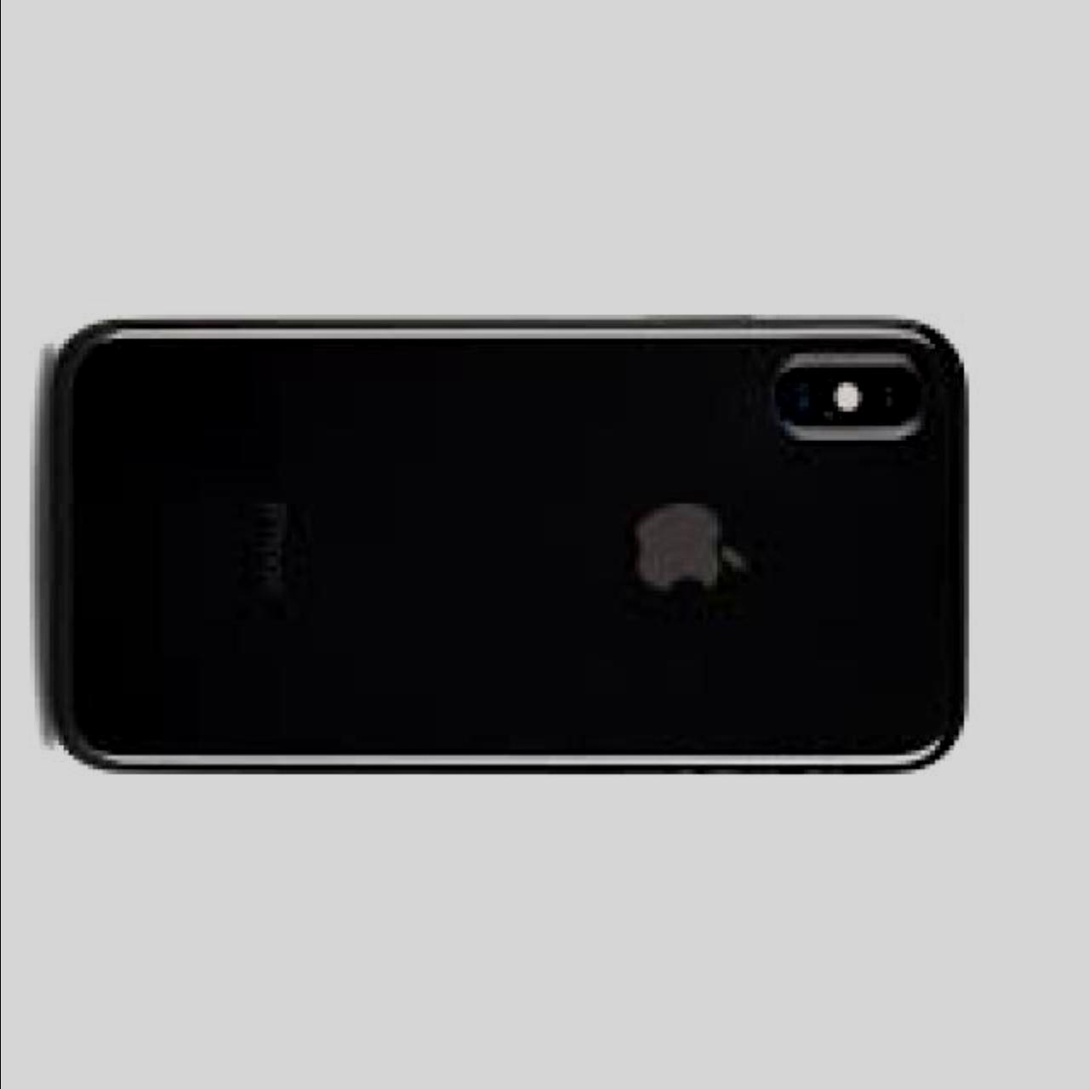phone: (39, 305, 975, 790)
